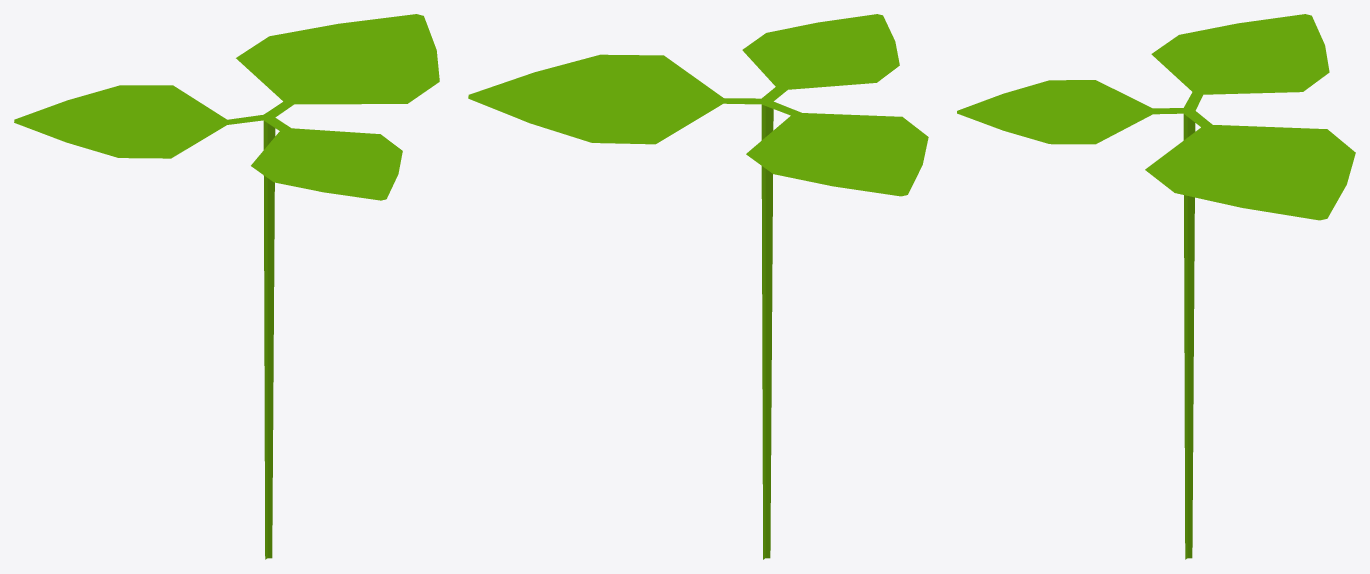
The model's file is potato_low_00.fbx.
The picture shows the model from 3 angles, left to right: view 1: azimuth 30°, elevation 25°; view 2: azimuth 150°, elevation 25°; view 3: azimuth 270°, elevation 25°; orthographic projection. The views are drawn at different scales.
Parts seen in each view (by area): view 1: Plane; view 2: Plane; view 3: Plane.
Boxes of the visible parts, x1,y1,x2,y2 form: Plane: (14,14,439,559); Plane: (468,14,928,559); Plane: (957,14,1355,559).
Bounding box in the file's own units: 38.1 × 38.5 × 31.1.
